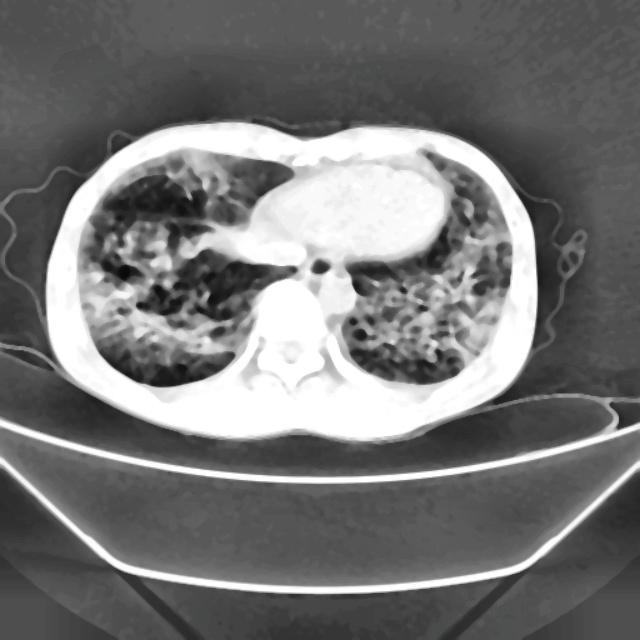covid: (42, 118, 538, 442)
